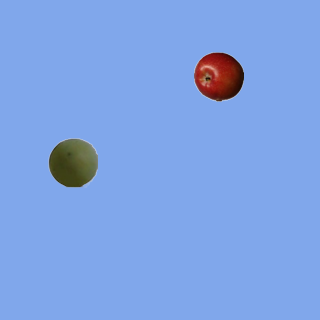Apple Braeburn: (193, 51, 243, 101)
Grape White 4: (47, 137, 97, 187)
